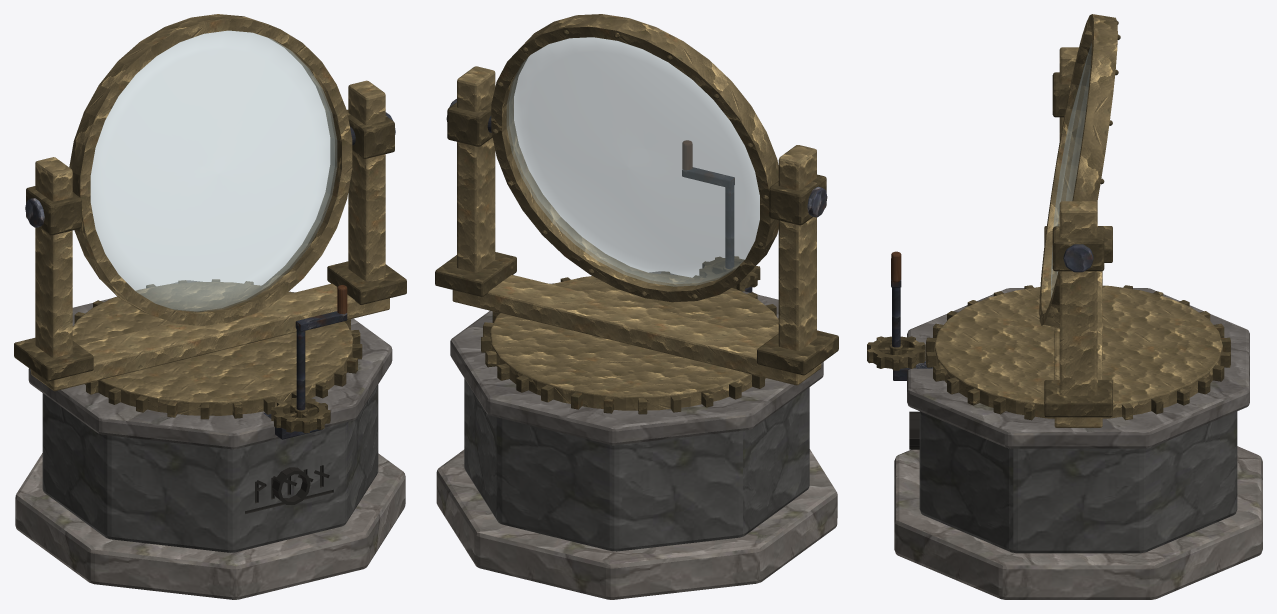
The model's file is rs_great_lens_cradle.glb.
3 views of the same model, side by side, from view 1: azimuth 30°, elevation 25°; view 2: azimuth 150°, elevation 25°; view 3: azimuth 270°, elevation 25° (orthographic). The views are drawn at different scales.
Visible parts, largest first — view 1: model; view 2: model; view 3: model.
Boxes of the visible parts, left/top/right/bottom form: model: left=14, top=14, right=406, bottom=599; model: left=435, top=14, right=838, bottom=599; model: left=867, top=14, right=1262, bottom=599.
Bounding box in the file's own units: 1.22 × 1.59 × 1.15.
Materials: 12 (9 with a texture image).
